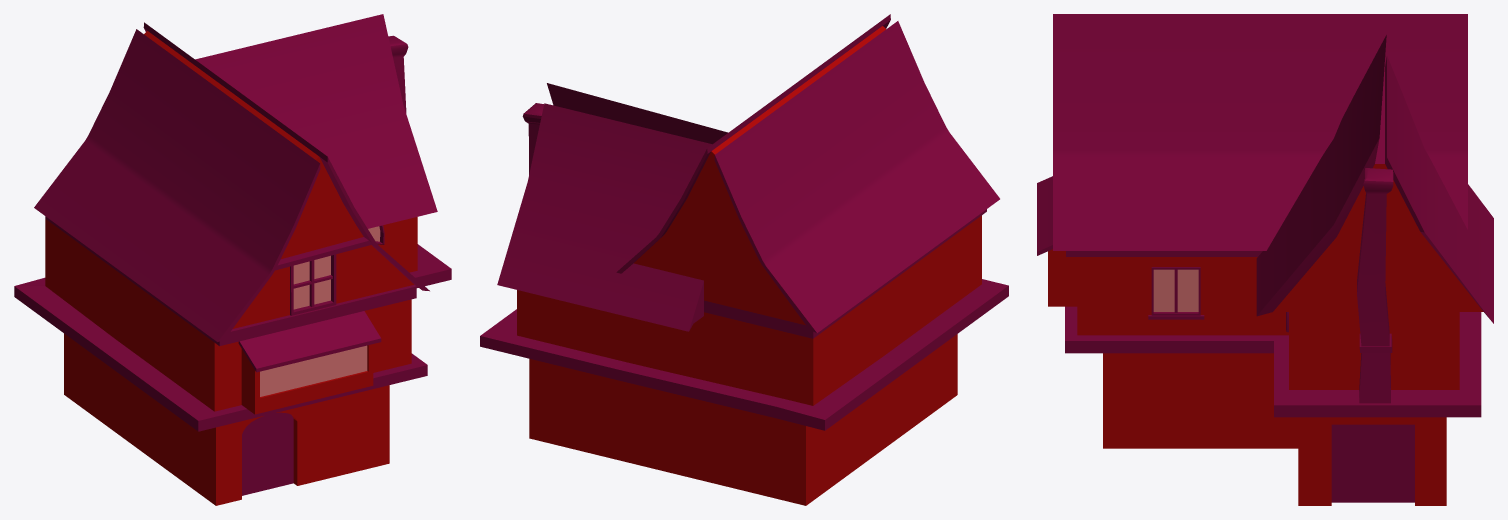
File: townHouseVar2_RED.fbx
The picture shows the model from 3 angles, left to right: view 1: azimuth 30°, elevation 25°; view 2: azimuth 150°, elevation 25°; view 3: azimuth 270°, elevation 25°; orthographic projection. The views are drawn at different scales.
Visible parts, largest first — view 1: pCube2, pCube1, pCube3, pCube4; view 2: pCube1, pCube2, pCube3, pCube4; view 3: pCube2, pCube1, pCube3, pCube4.
Part boxes in pixels (left/top/right/bottom): pCube2: left=34, top=22, right=429, bottom=346; pCube1: left=14, top=217, right=451, bottom=505; pCube3: left=195, top=14, right=437, bottom=228; pCube4: left=388, top=35, right=408, bottom=113; pCube1: left=480, top=215, right=1008, bottom=505; pCube2: left=616, top=14, right=999, bottom=338; pCube3: left=497, top=83, right=727, bottom=331; pCube4: left=522, top=103, right=543, bottom=174; pCube2: left=1053, top=14, right=1467, bottom=256; pCube1: left=1037, top=176, right=1481, bottom=505; pCube3: left=1256, top=35, right=1493, bottom=323; pCube4: left=1357, top=168, right=1393, bottom=403.
Bounding box in the file's own units: 188 × 178 × 190.
